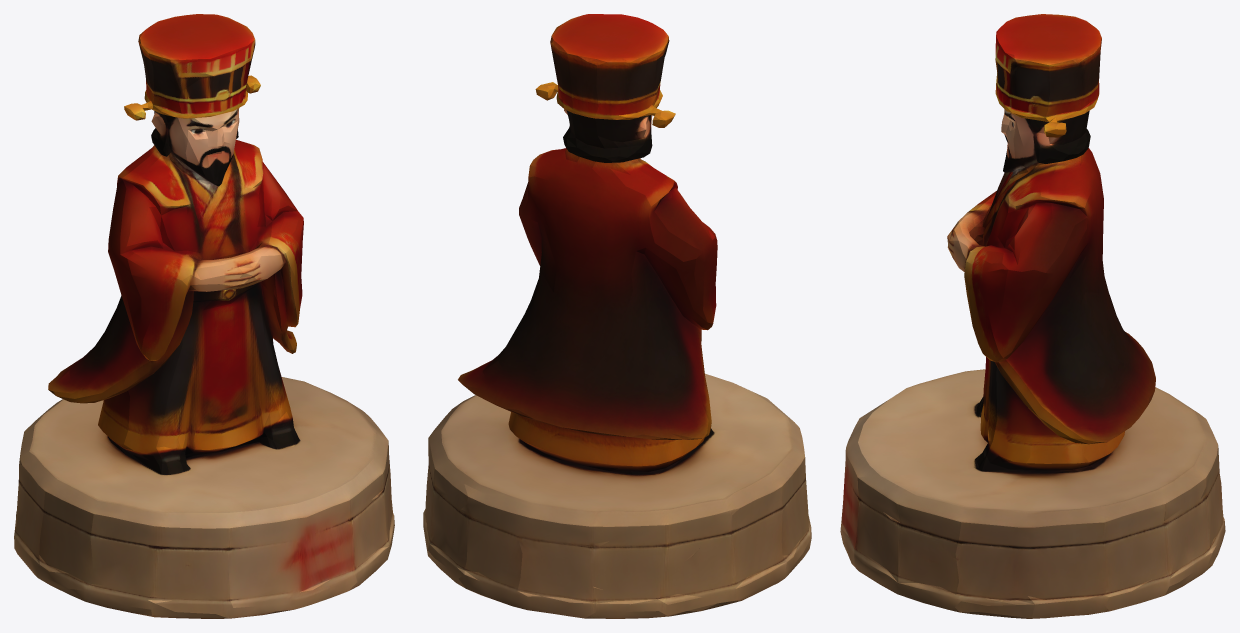
Rendered from advisor_red.glb.
The picture shows the model from 3 angles, left to right: view 1: azimuth 30°, elevation 25°; view 2: azimuth 150°, elevation 25°; view 3: azimuth 270°, elevation 25°; orthographic projection.
Parts seen in each view (by area): view 1: Mesh; view 2: Mesh; view 3: Mesh.
Boxes of the visible parts, <box> form: Mesh: <box>14,14,394,618</box>; Mesh: <box>423,14,811,618</box>; Mesh: <box>840,14,1225,618</box>.
Bounding box in the file's own units: 1.31 × 1.89 × 1.31.
1 material, 1 textured.
